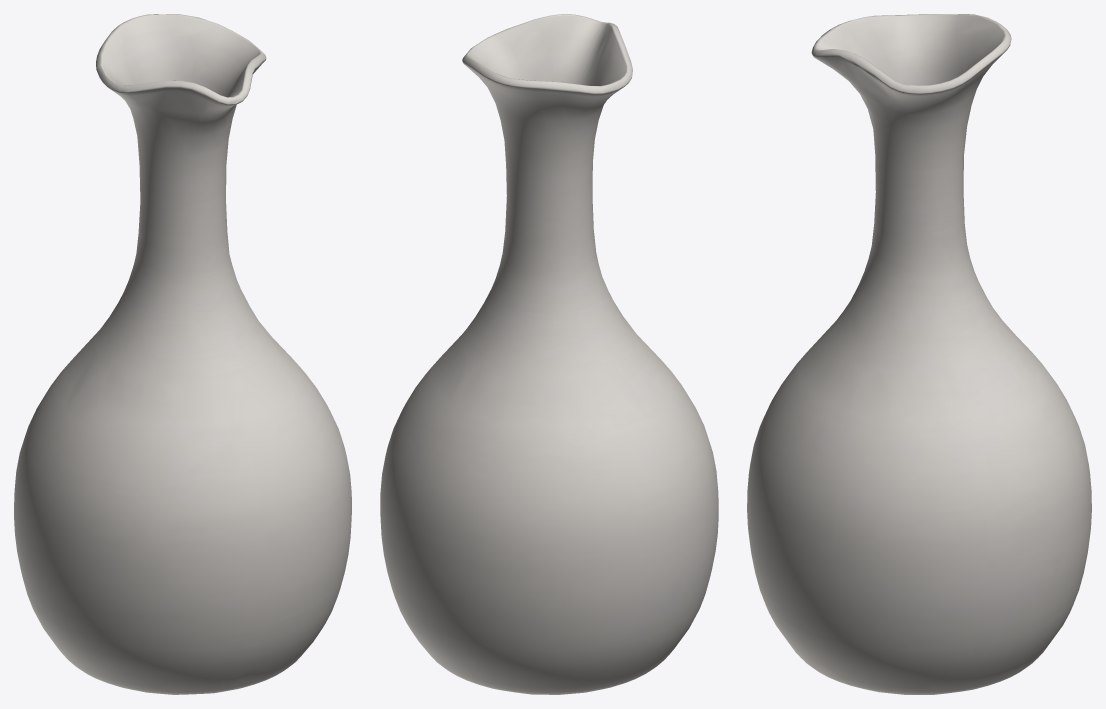
The model's file is assets__ph__ceramic_vase_01.glb.
3 views of the same model, side by side, from view 1: azimuth 30°, elevation 25°; view 2: azimuth 150°, elevation 25°; view 3: azimuth 270°, elevation 25° (orthographic).
Parts seen in each view (by area): view 1: ceramic_vase_01; view 2: ceramic_vase_01; view 3: ceramic_vase_01.
Part boxes in pixels (x1,y1,x2,y2): ceramic_vase_01: [14, 14, 351, 694]; ceramic_vase_01: [380, 14, 718, 694]; ceramic_vase_01: [747, 14, 1091, 694].
Size of the model in its own units: 0.2036 by 0.4003 by 0.2036.
Materials: 1 (1 with a texture image).
